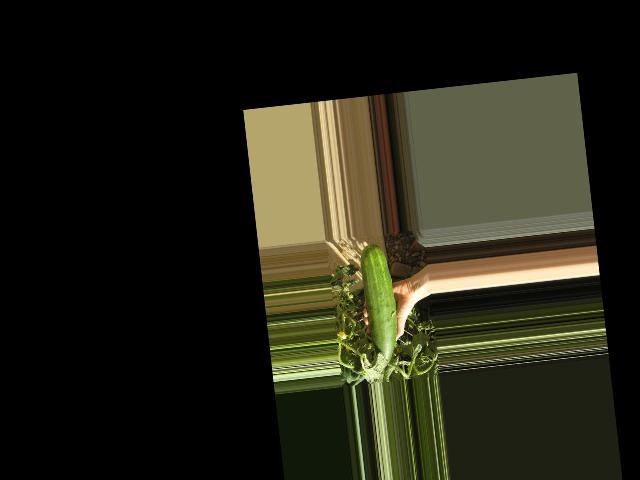cucumber: (358, 242, 402, 366)
